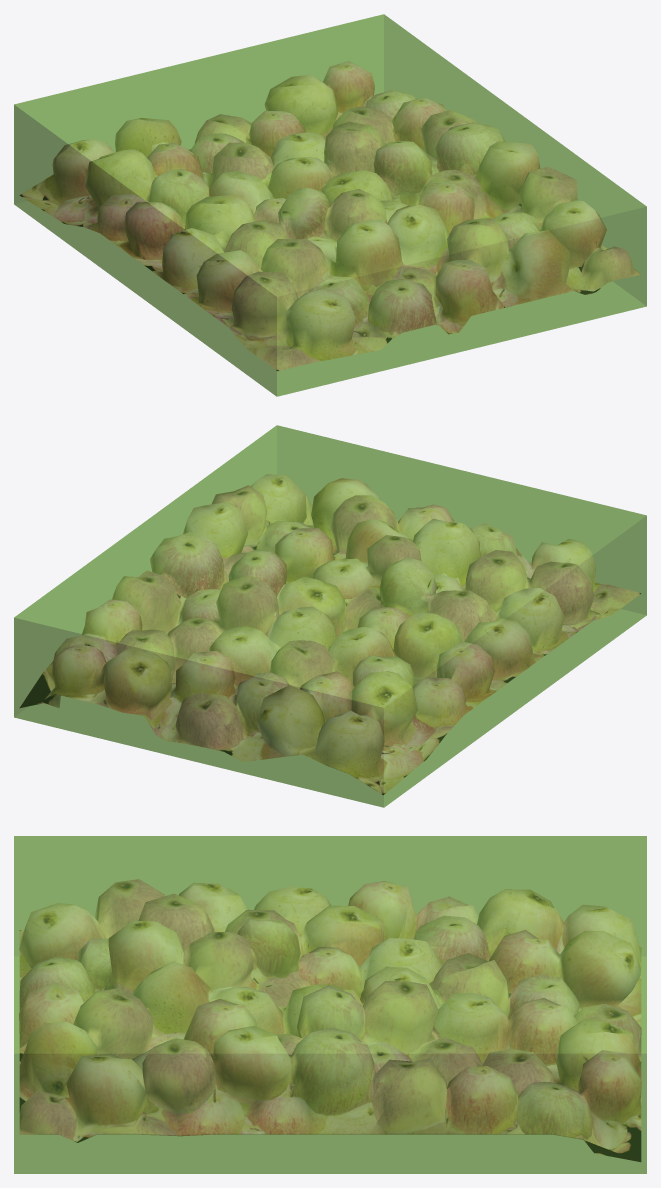
File: pg_Apple_pile_01.fbx
3 renders of one model, top to bottom at view 1: azimuth 30°, elevation 25°; view 2: azimuth 150°, elevation 25°; view 3: azimuth 270°, elevation 25°, orthographic. The views are drawn at different scales.
Visible parts, largest first — view 1: pg_apple_pile_01_col, pg_apple_pile_01_LOD0; view 2: pg_apple_pile_01_col, pg_apple_pile_01_LOD0; view 3: pg_apple_pile_01_col, pg_apple_pile_01_LOD0.
Part boxes in pixels (x1,y1,x2,y2): pg_apple_pile_01_col: [14, 14, 646, 396]; pg_apple_pile_01_LOD0: [19, 61, 640, 370]; pg_apple_pile_01_col: [14, 425, 646, 807]; pg_apple_pile_01_LOD0: [20, 474, 641, 795]; pg_apple_pile_01_col: [14, 836, 646, 1173]; pg_apple_pile_01_LOD0: [19, 879, 641, 1161].
Size of what is drawn, in the model's own units: 47.8 by 12.34 by 58.81.
